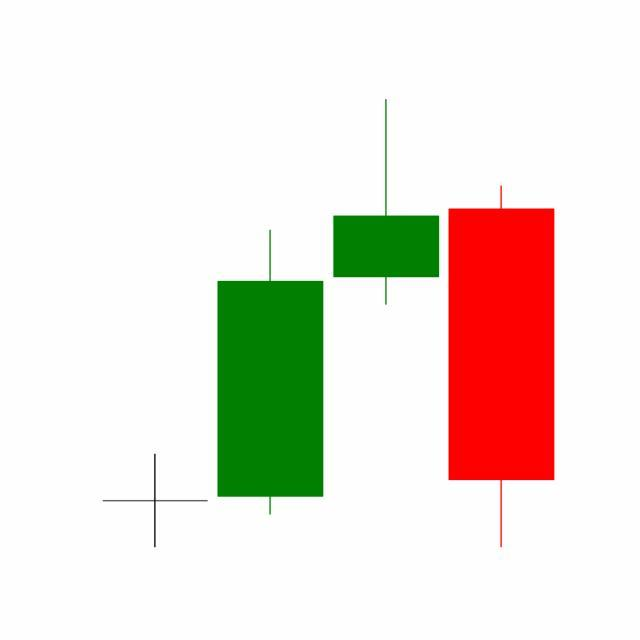Evening Star: (211, 99, 555, 549)
